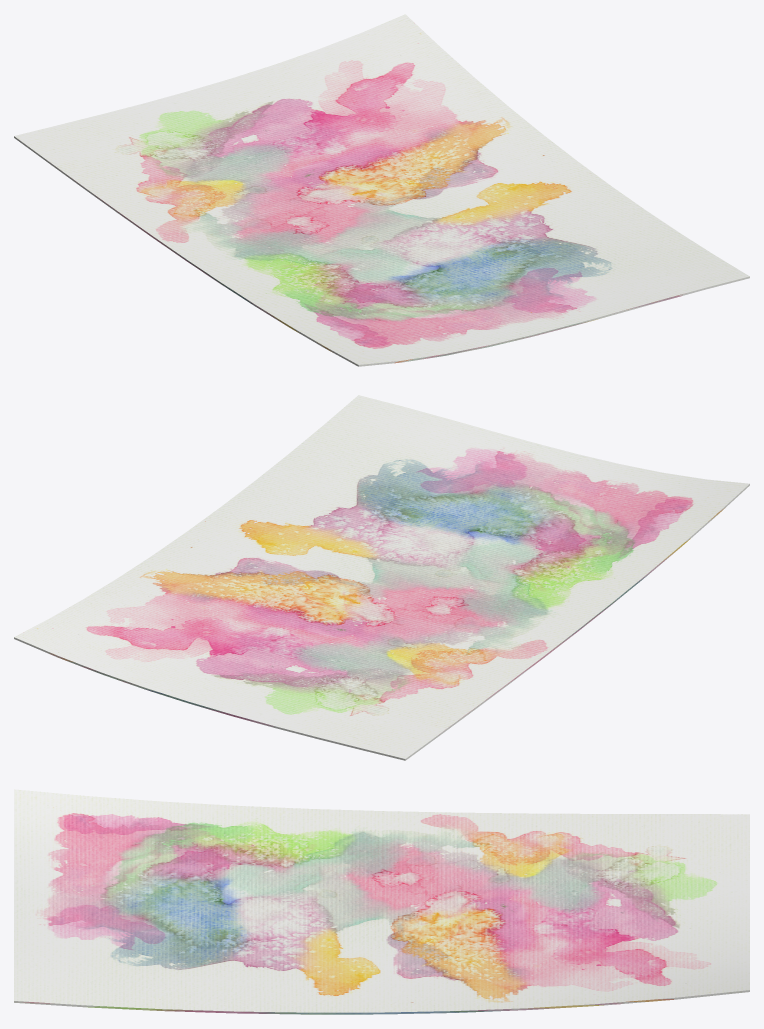
Rendered from Paper 1.FBX.
The picture shows the model from 3 angles, top to bottom: view 1: azimuth 30°, elevation 25°; view 2: azimuth 150°, elevation 25°; view 3: azimuth 270°, elevation 25°; orthographic projection. The views are drawn at different scales.
Visible parts, largest first — view 1: Paper 1; view 2: Paper 1; view 3: Paper 1.
Part boxes in pixels (x1,y1,x2,y2): Paper 1: (14,14,749,366); Paper 1: (14,395,749,760); Paper 1: (14,789,749,1014).
Size of the model in its own units: 21.15 by 1.45 by 32.23.
1 material, 1 textured.
